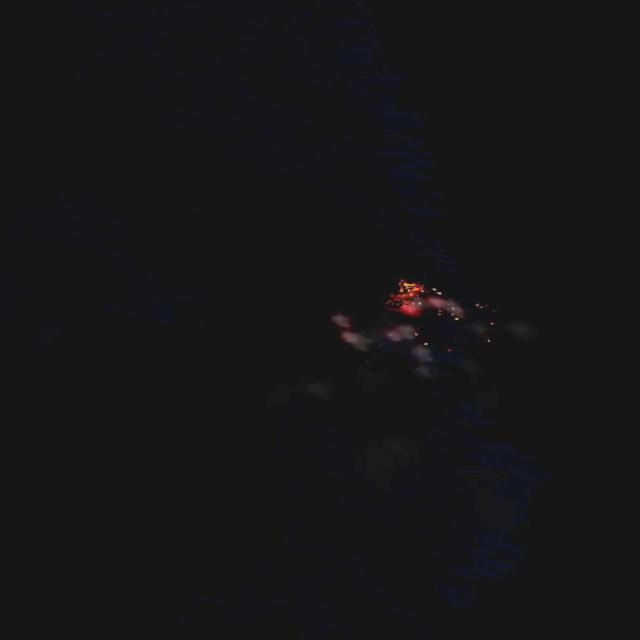fire: (387, 280, 424, 314)
smoke: (320, 311, 431, 371), (420, 284, 504, 344)
